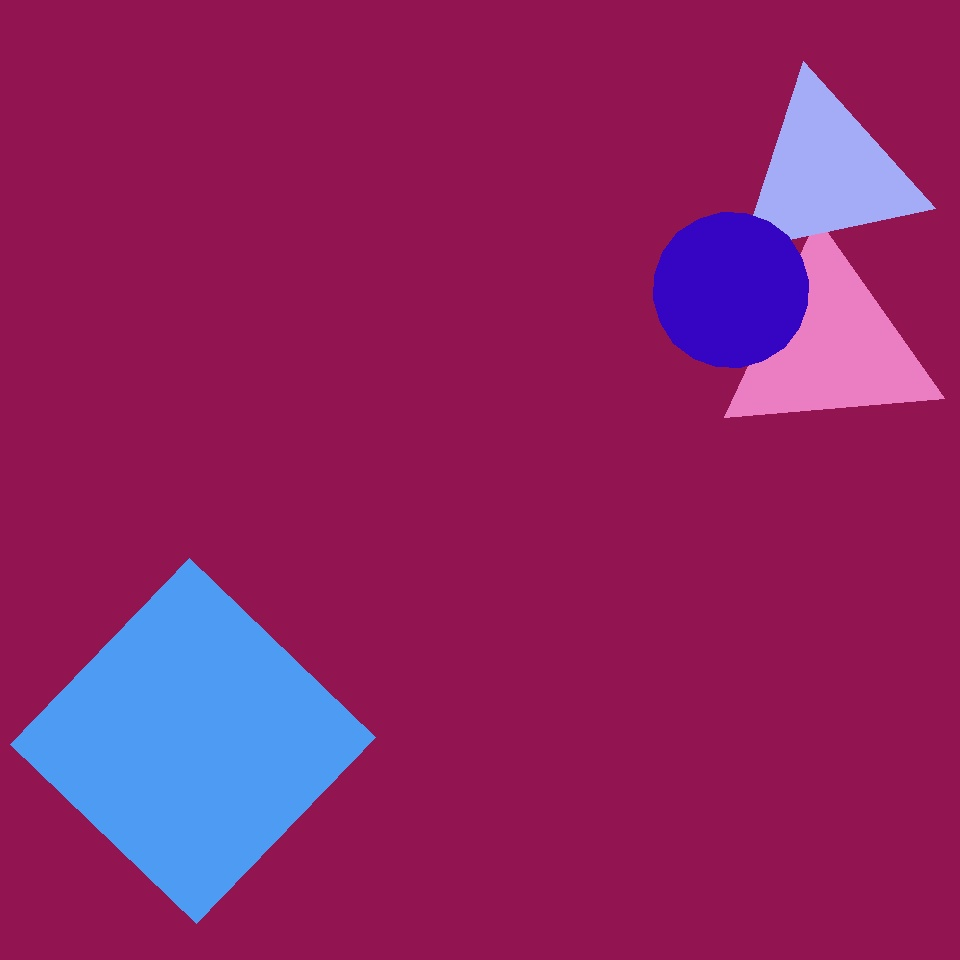circle: (132, 311, 359, 534), (719, 246, 939, 444), (730, 79, 924, 267), (387, 520, 489, 632)
square: (11, 558, 376, 924), (235, 329, 548, 642)
triangle: (68, 252, 366, 550), (654, 212, 808, 368)
